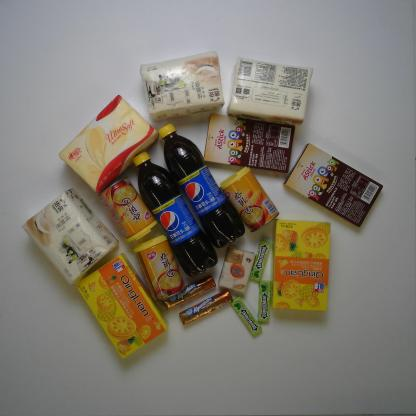Candy: (178, 288, 234, 326), (161, 272, 216, 310)
Canned Food: (219, 166, 281, 234), (99, 175, 158, 244), (133, 233, 186, 302)
Dessert: (75, 251, 170, 362), (281, 141, 385, 229), (202, 111, 297, 176), (269, 217, 332, 313)
Drink: (158, 121, 246, 248), (132, 150, 219, 277)
Gum: (229, 295, 264, 339), (251, 240, 272, 282), (256, 279, 272, 324)
Tissue: (57, 92, 160, 194), (19, 187, 120, 286), (138, 49, 226, 123), (226, 56, 315, 127), (216, 244, 257, 294)
